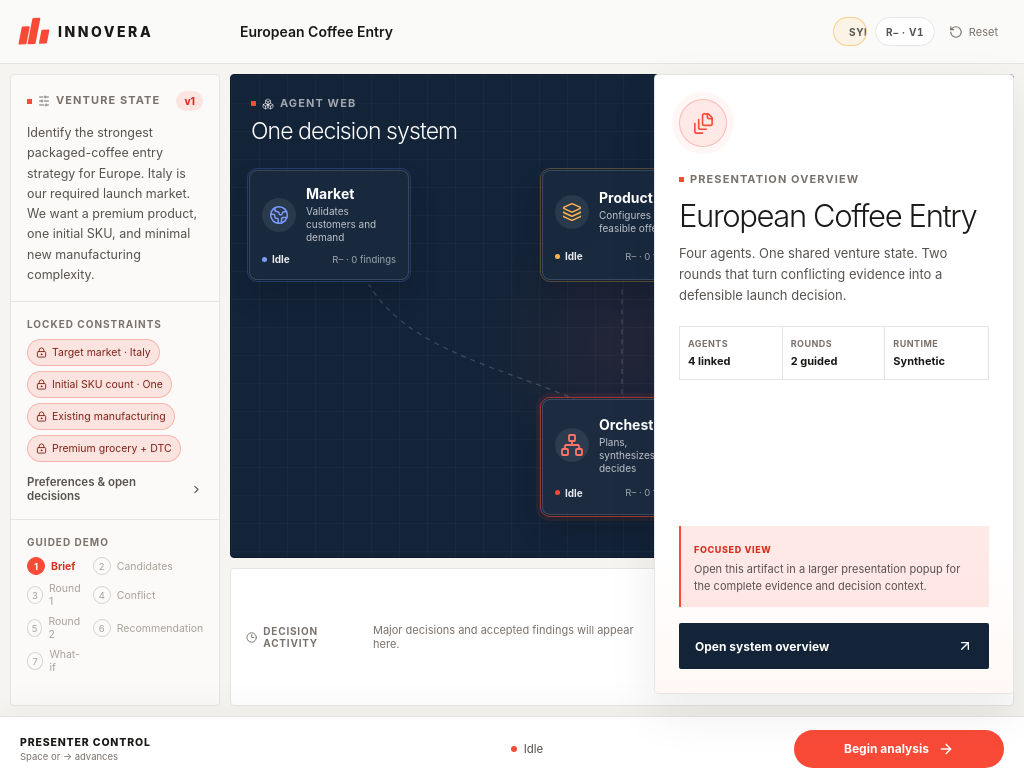
guided presentation › opens and closes an agent detail drawer
This screenshot has width=1024, height=768.
Click the button named "open market agent details" at (329, 225), box [249, 170, 409, 280]
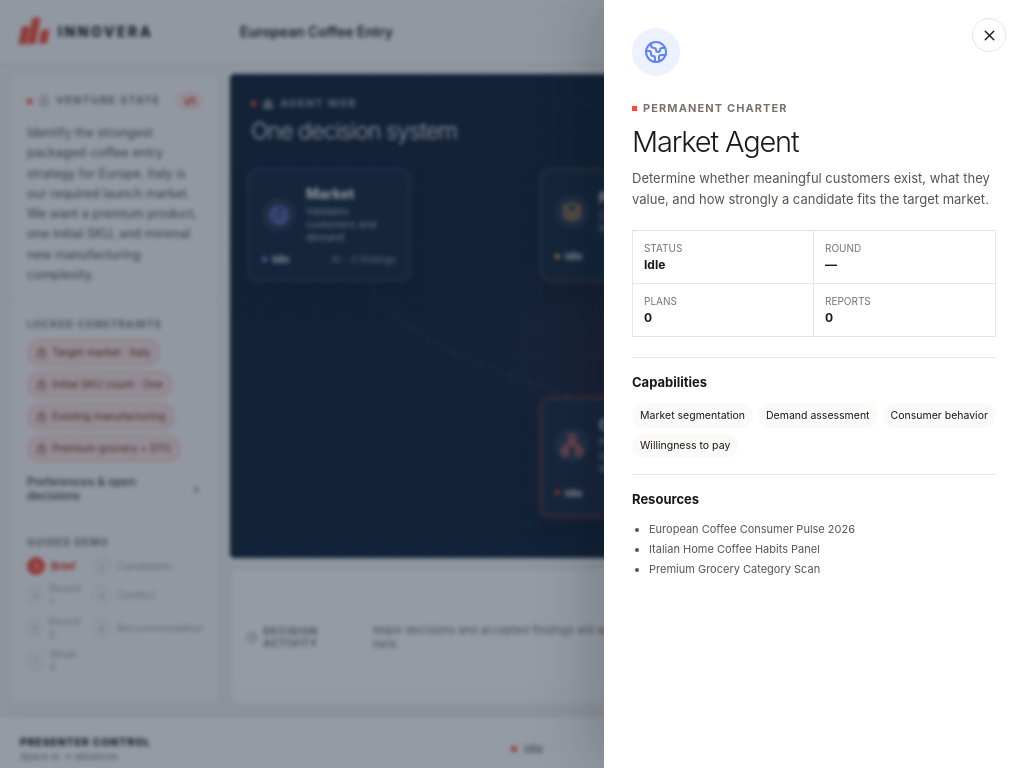
Expected: the dialog "Market Agent" is shown, [604, 0, 1023, 767]
Click the button named "close agent details" at (989, 35), box [972, 18, 1006, 52]
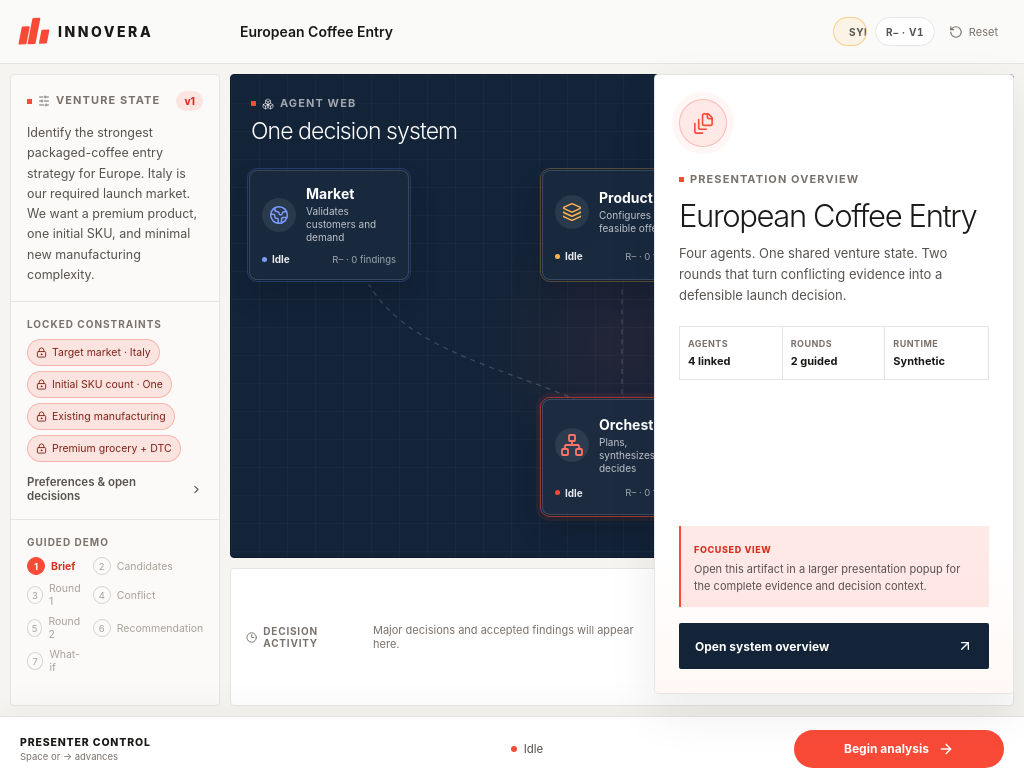
Expected: the heading "Market Agent" is gone
